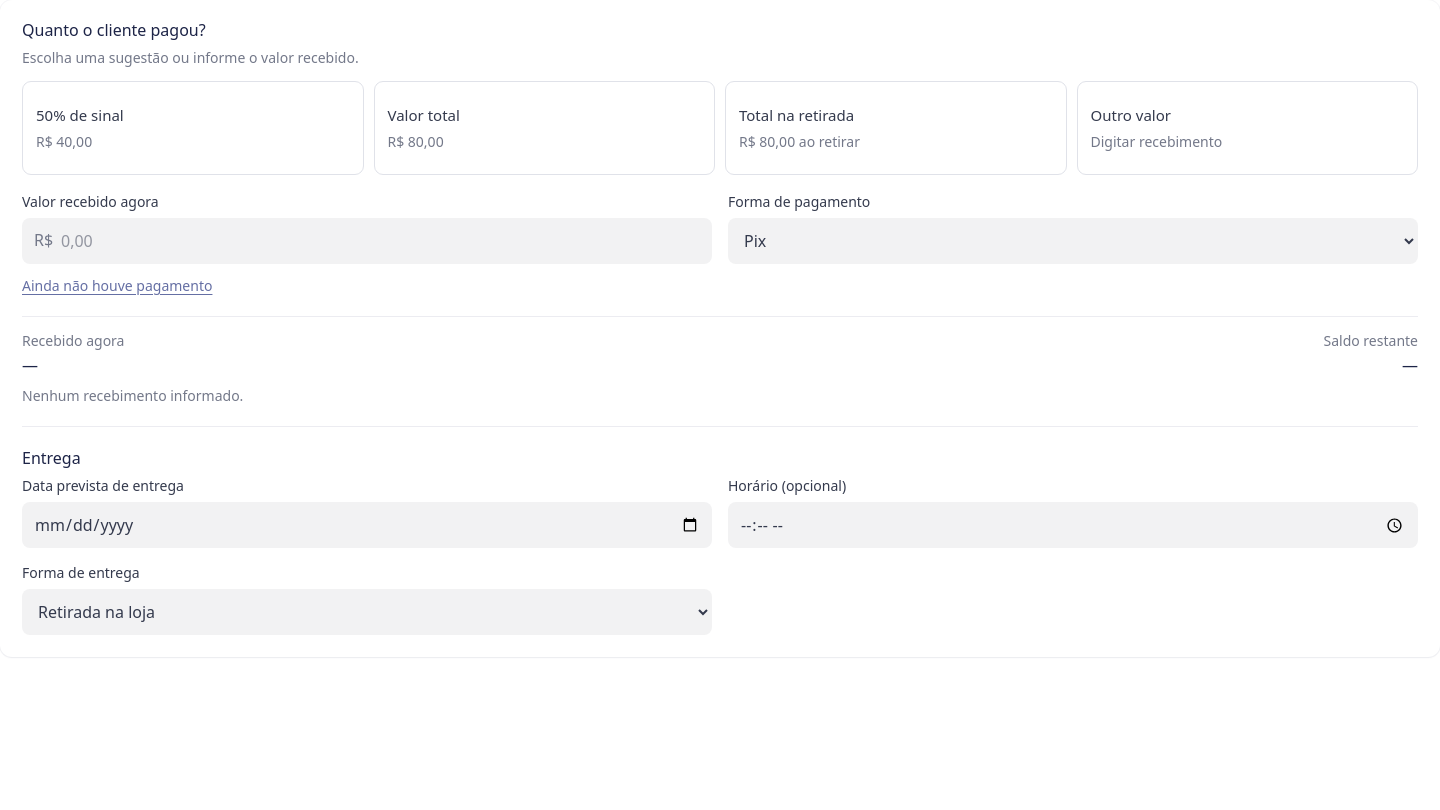
Test: campos por forma de pagamento › parcelas apenas no crédito e vencimento no boleto/faturamento
This screenshot has width=1440, height=810.
Select "Cartão de crédito" in the dropdown labelled "Forma de pagamento". click: (1073, 241)
box: [728, 218, 1418, 264]
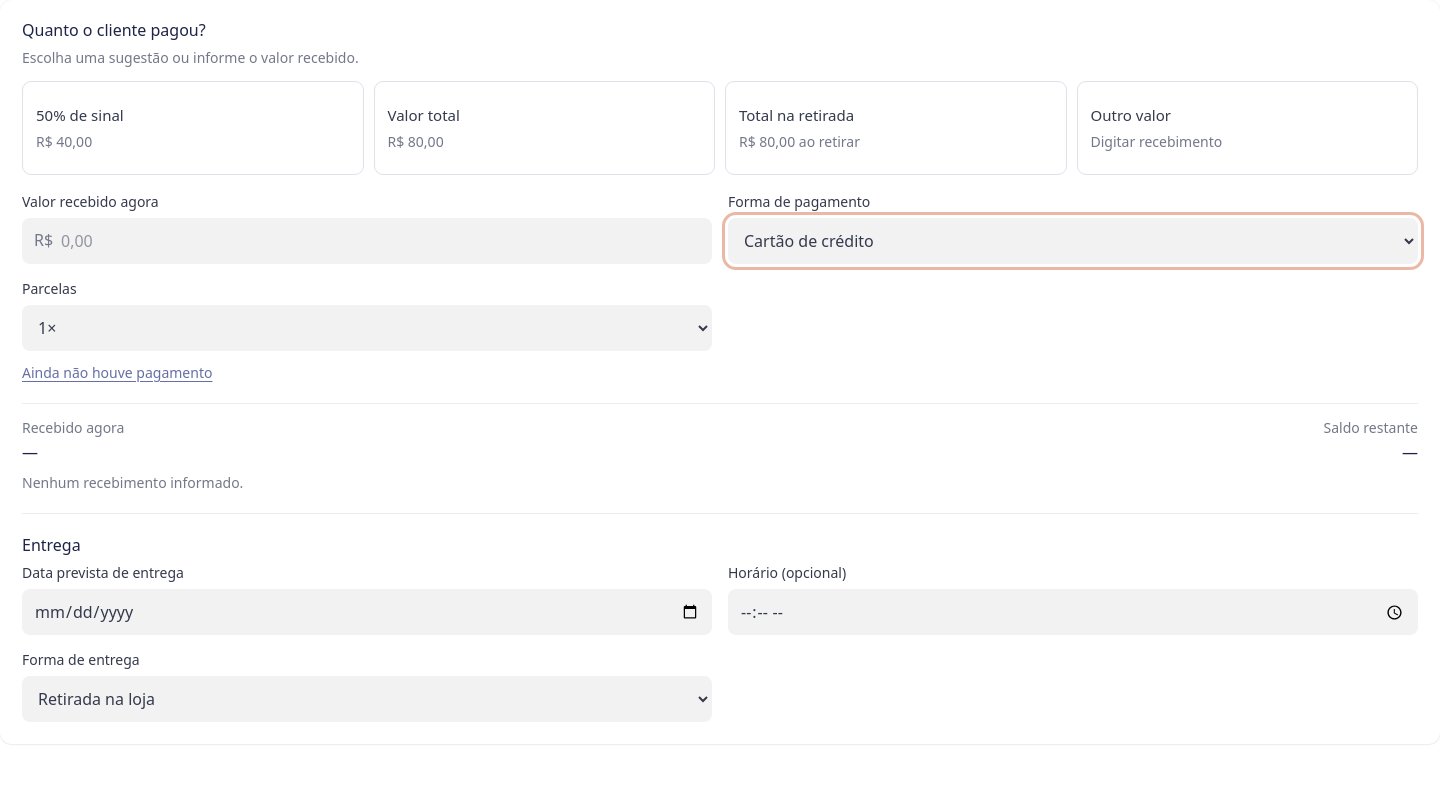
Now the dropdown labelled "Parcelas" is shown, box [22, 305, 712, 351]
Select "Boleto" in the dropdown labelled "Forma de pagamento". click: (1073, 241)
box: [728, 218, 1418, 264]
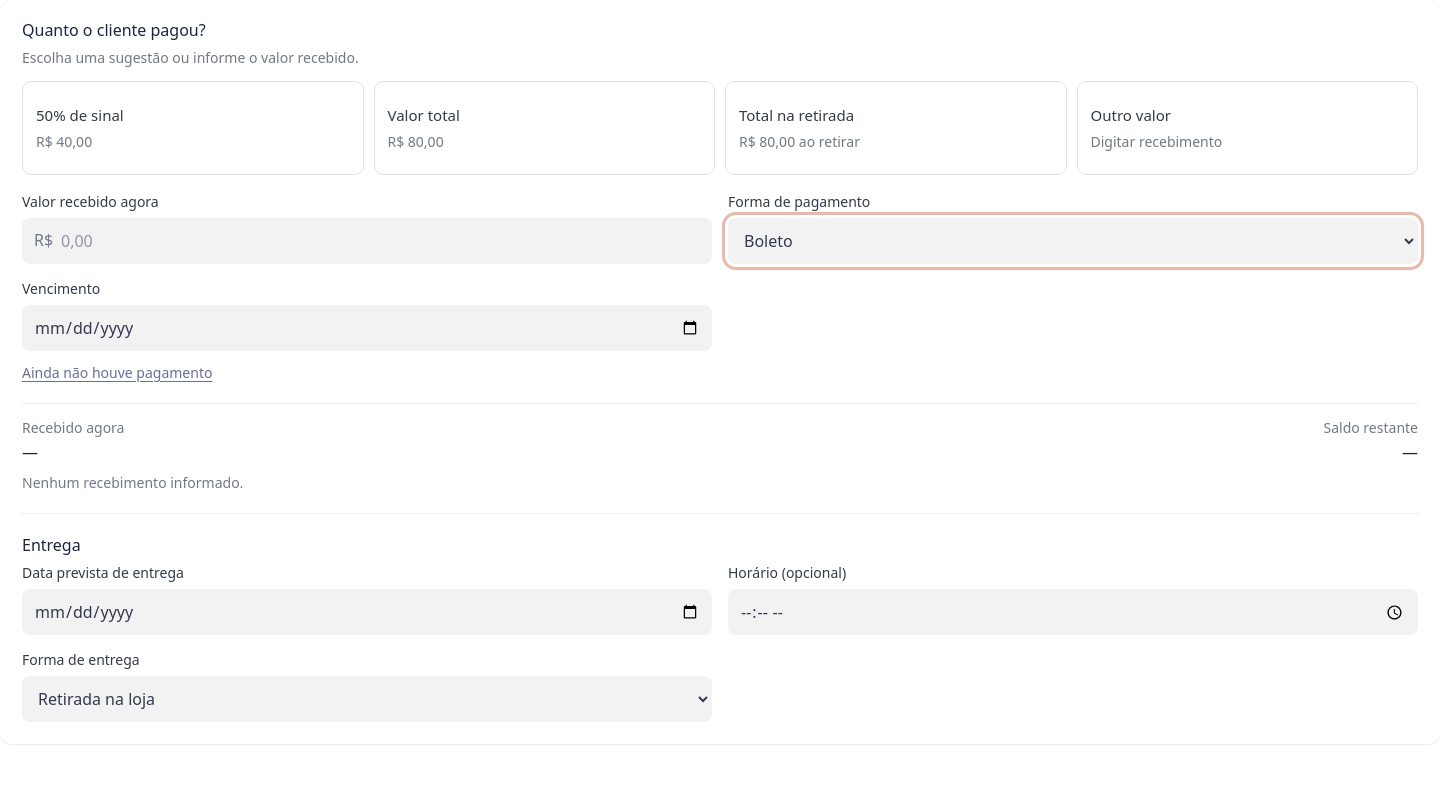
Now the text labelled "Parcelas" is gone
Now the date field labelled "Vencimento" is shown, box [22, 305, 712, 351]
Select "Dinheiro" in the dropdown labelled "Forma de pagamento". click: (1073, 241)
box: [728, 218, 1418, 264]
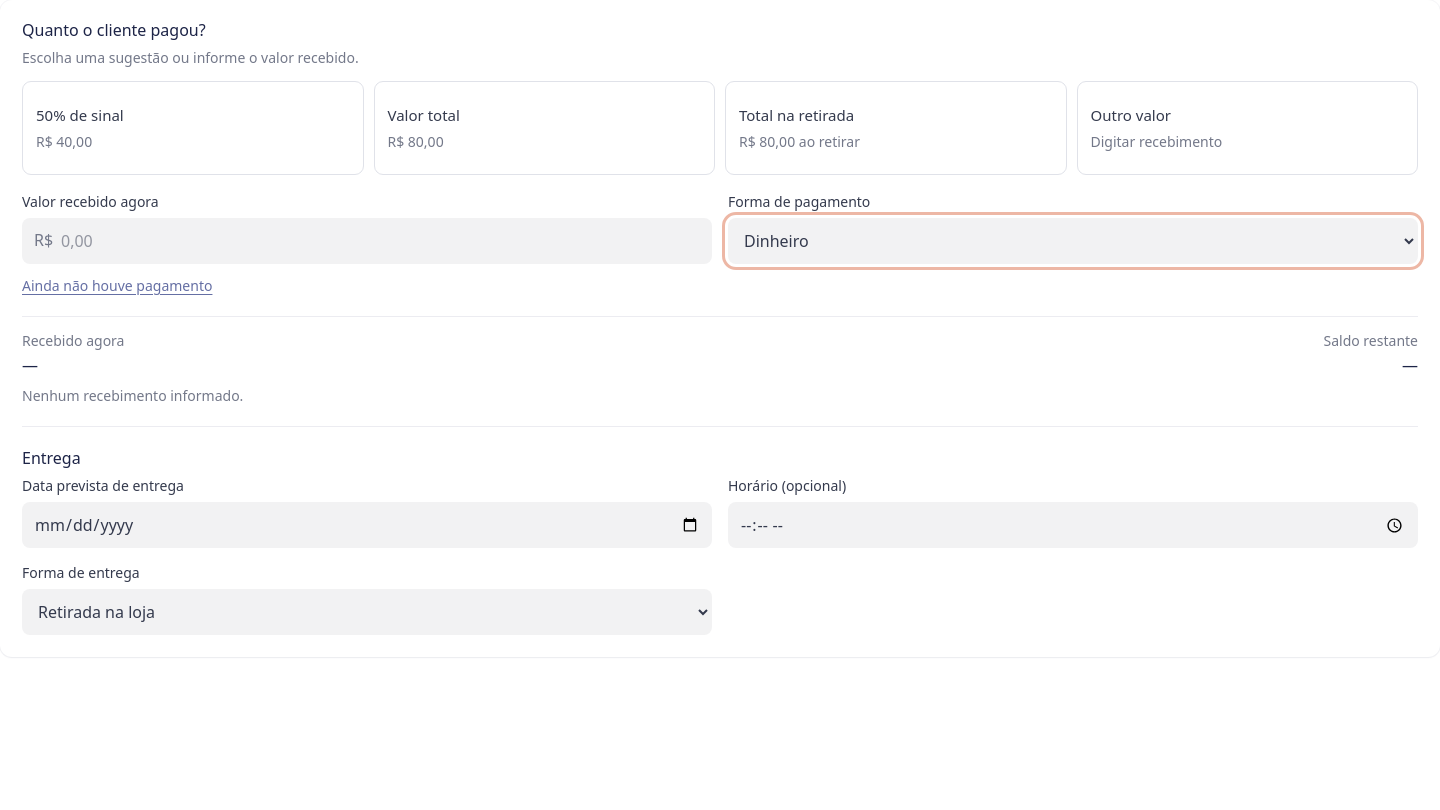
Now the text labelled "Vencimento" is gone
